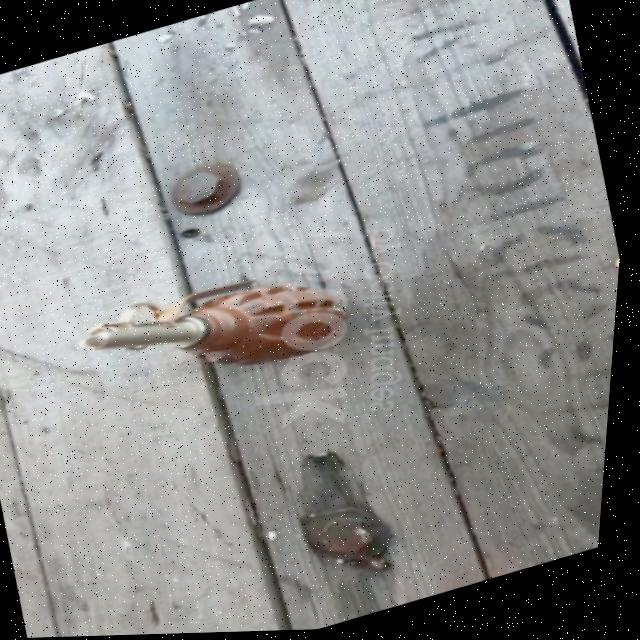grenade: (60, 214, 385, 436)
